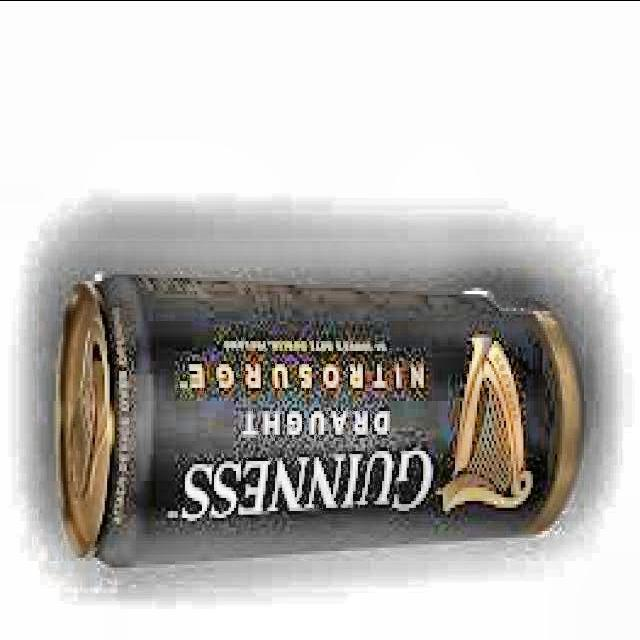Aluminum Can: (47, 265, 593, 574)
